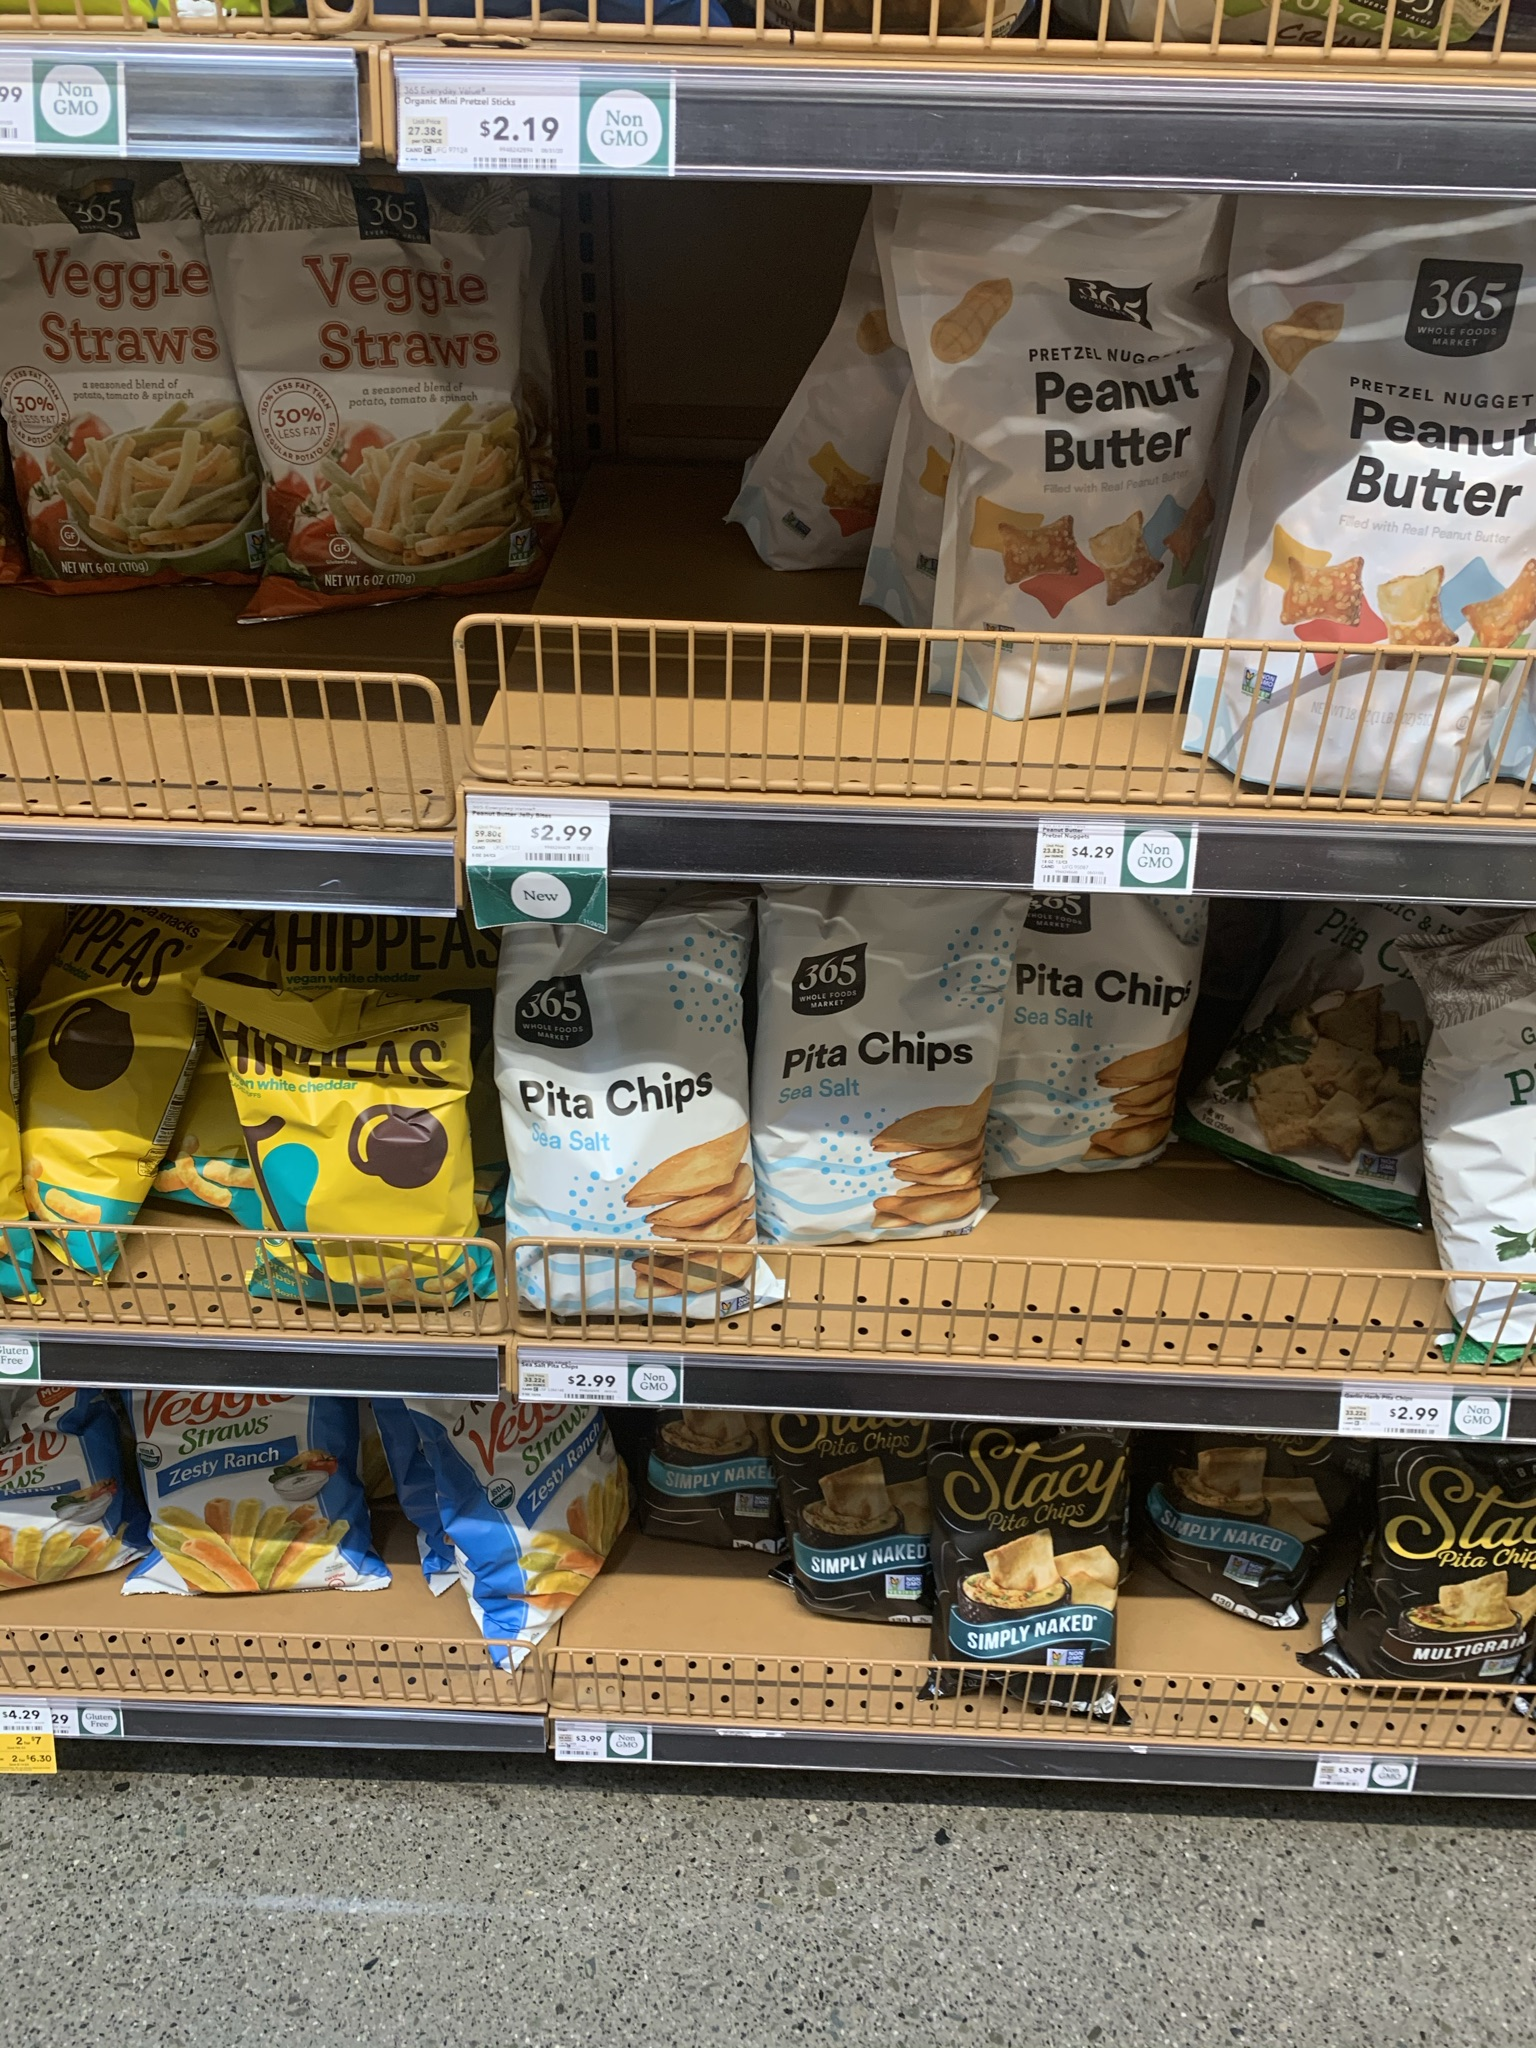pita chips: (520, 924, 749, 1285), (770, 898, 992, 1216), (1020, 897, 1189, 1155)
pretzels chips: (1271, 260, 1504, 761), (937, 255, 1167, 660)
stacy chips: (947, 1434, 1121, 1709), (1394, 1469, 1536, 1696), (784, 1421, 933, 1624), (1179, 1450, 1304, 1614), (657, 1424, 774, 1551)
veggie chips: (269, 202, 561, 552), (2, 216, 247, 571), (139, 1400, 394, 1587), (416, 1414, 603, 1625)
